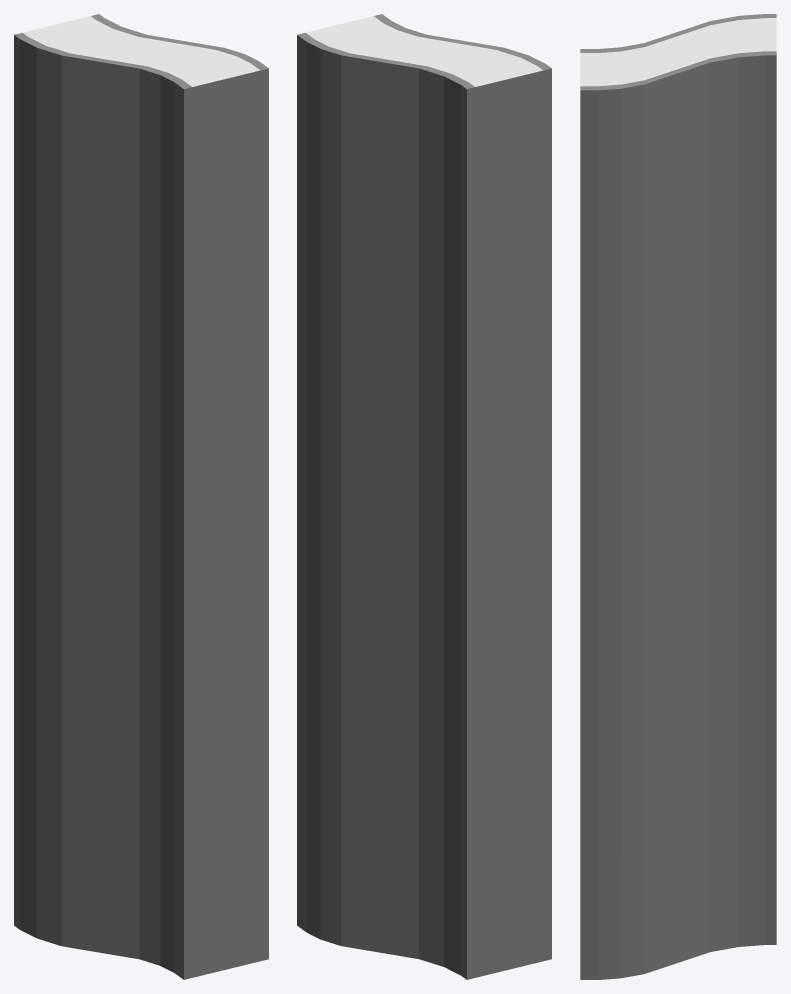
File: intro_track.fbx
3 renders of one model, left to right at view 1: azimuth 30°, elevation 25°; view 2: azimuth 210°, elevation 25°; view 3: azimuth 270°, elevation 25°, orthographic.
Visible parts, largest first — view 1: turnsChunk; view 2: turnsChunk; view 3: turnsChunk.
Boxes of the visible parts, x1,y1,x2,y2 form: turnsChunk: [14, 14, 268, 979]; turnsChunk: [297, 14, 551, 979]; turnsChunk: [580, 14, 776, 979].
Size of the model in its own units: 92.09 by 100 by 500.
